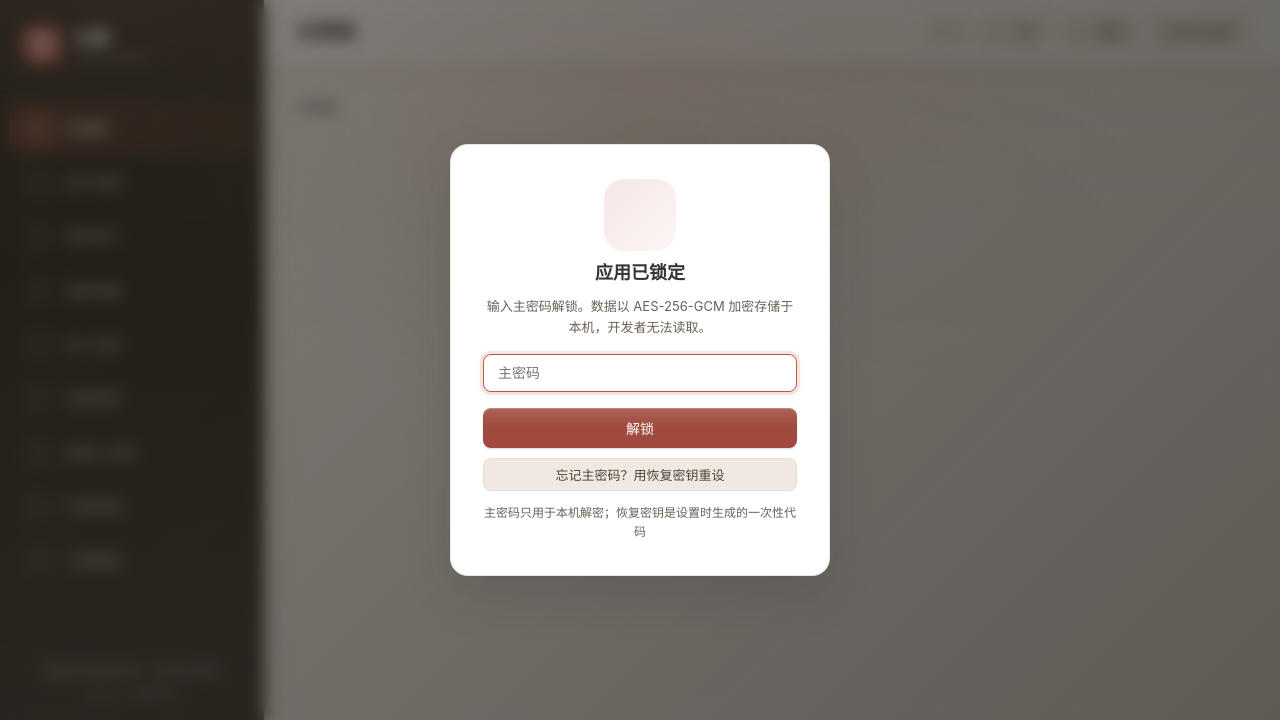
Test: 恢复密钥流程 › 恢复码错误时显示后端消息且不进入重设步骤
Click the button "忘记主密码？用恢复密钥重设": x=640, y=474 [483,458,797,490]
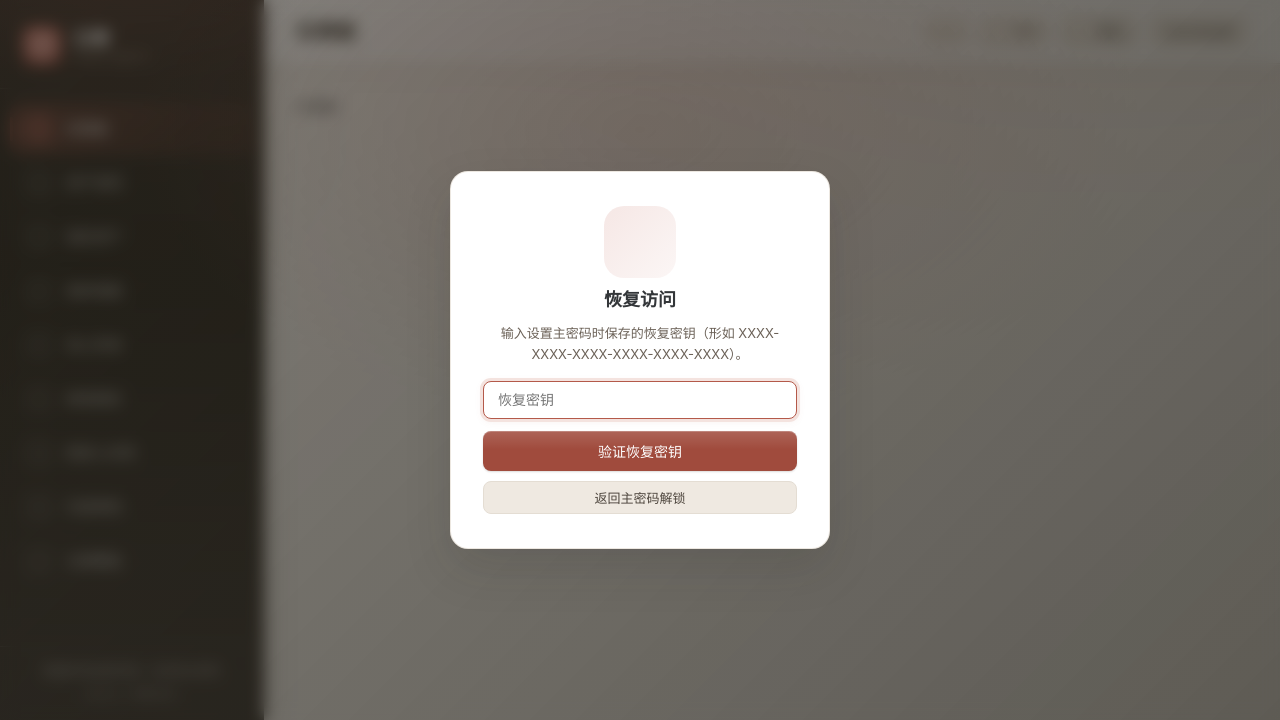
In the field named "恢复密钥": x=640, y=400 [483,381,797,419], type "AAAA-BBBB-CCCC-DDDD-EEEE-FFFF"
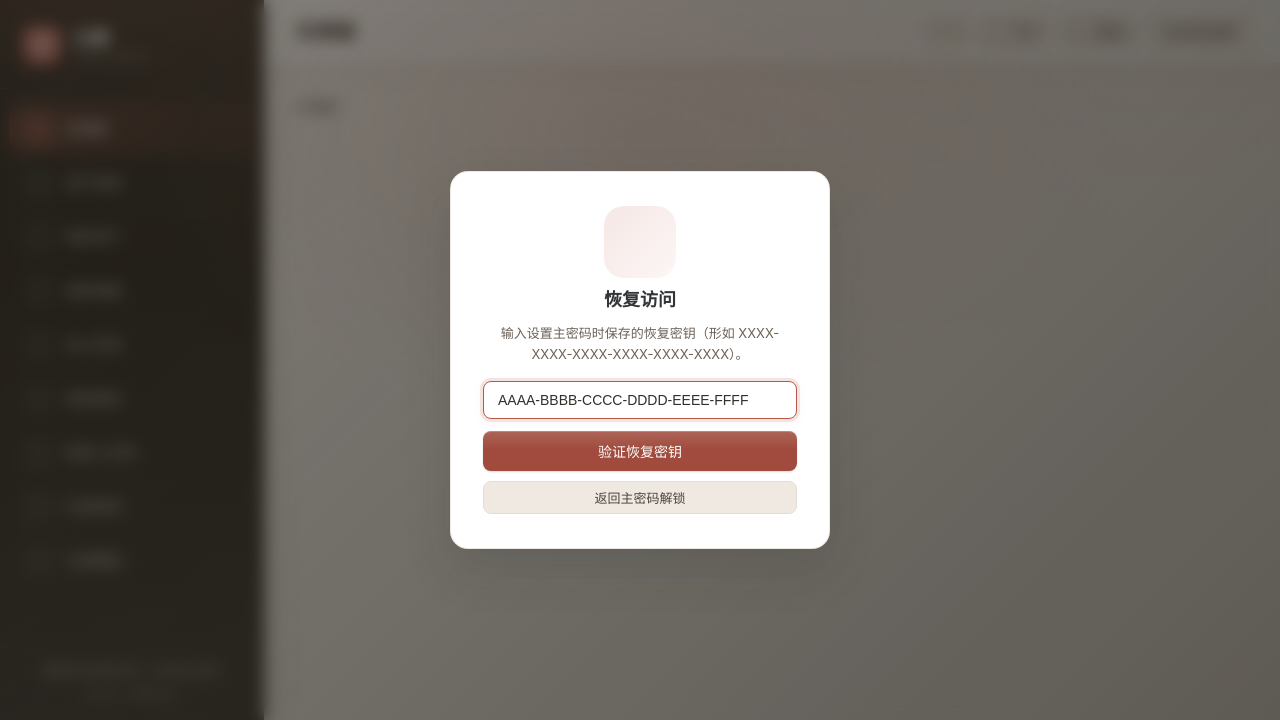
Click the button "验证恢复密钥": x=640, y=451 [483,431,797,471]
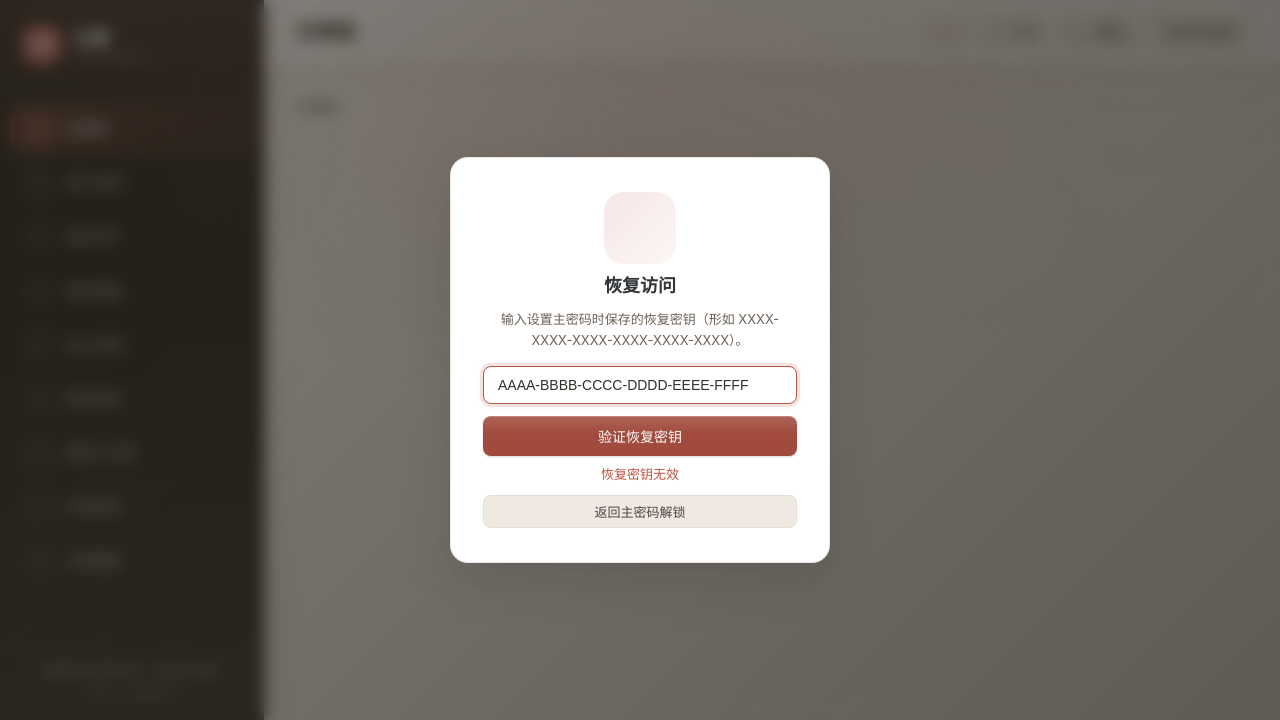
expect the text "恢复密钥无效" is shown: met, box [601,466,679,482]
